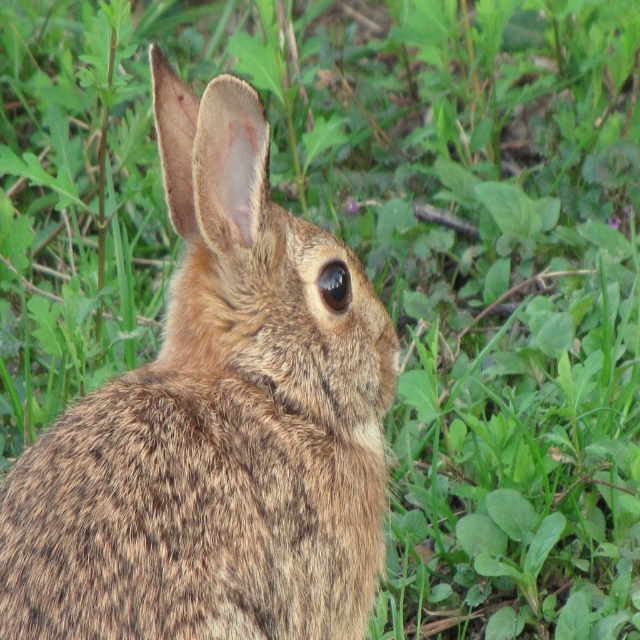Rabbit: (0, 45, 402, 639)
